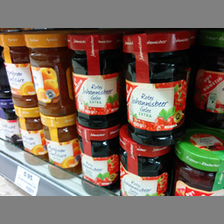jam: (122, 32, 191, 146), (67, 31, 122, 128), (24, 34, 75, 117), (117, 125, 173, 197), (75, 120, 119, 197), (1, 32, 40, 108), (40, 113, 82, 180), (14, 106, 47, 166)
